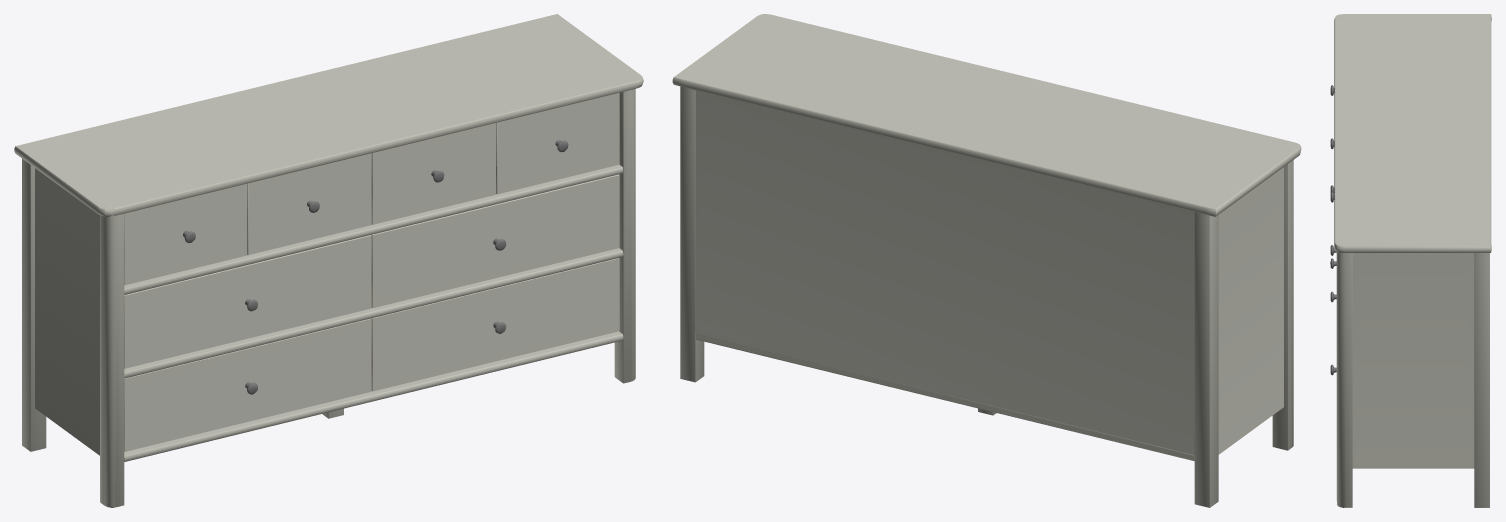
Rendered from drawer-2.glb.
The picture shows the model from 3 angles, left to right: view 1: azimuth 30°, elevation 25°; view 2: azimuth 150°, elevation 25°; view 3: azimuth 270°, elevation 25°; orthographic projection. The views are drawn at different scales.
Parts seen in each view (by area): view 1: 80522393_8_drawer_dresser.001, 80522393_8_drawer_dresser.005; view 2: 80522393_8_drawer_dresser.001; view 3: 80522393_8_drawer_dresser.001, 80522393_8_drawer_dresser.005.
Boxes of the visible parts, x1=… form: 80522393_8_drawer_dresser.001: x1=14, y1=14, x2=643, y2=507; 80522393_8_drawer_dresser.005: x1=183, y1=140, x2=568, y2=394; 80522393_8_drawer_dresser.001: x1=672, y1=14, x2=1301, y2=507; 80522393_8_drawer_dresser.001: x1=1334, y1=14, x2=1491, y2=507; 80522393_8_drawer_dresser.005: x1=1330, y1=85, x2=1336, y2=375.
Bounding box in the file's own units: 1.71 × 0.91 × 0.4997.
1 material, 1 textured.
